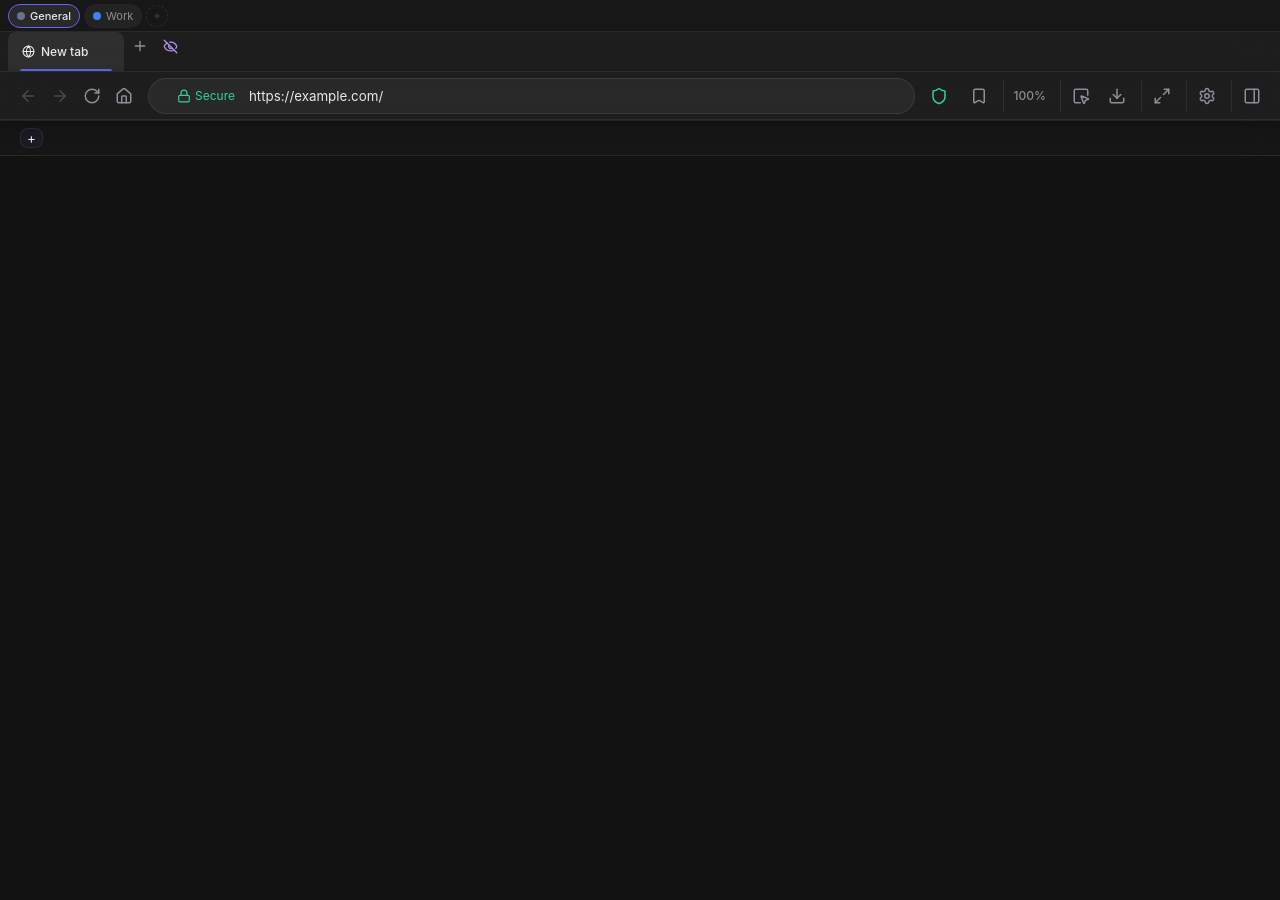
it: App › opens the Settings modal from the toolbar gear button
The image size is (1280, 900).
Click the button named "open settings" at (1207, 96), box [1191,80,1223,112]
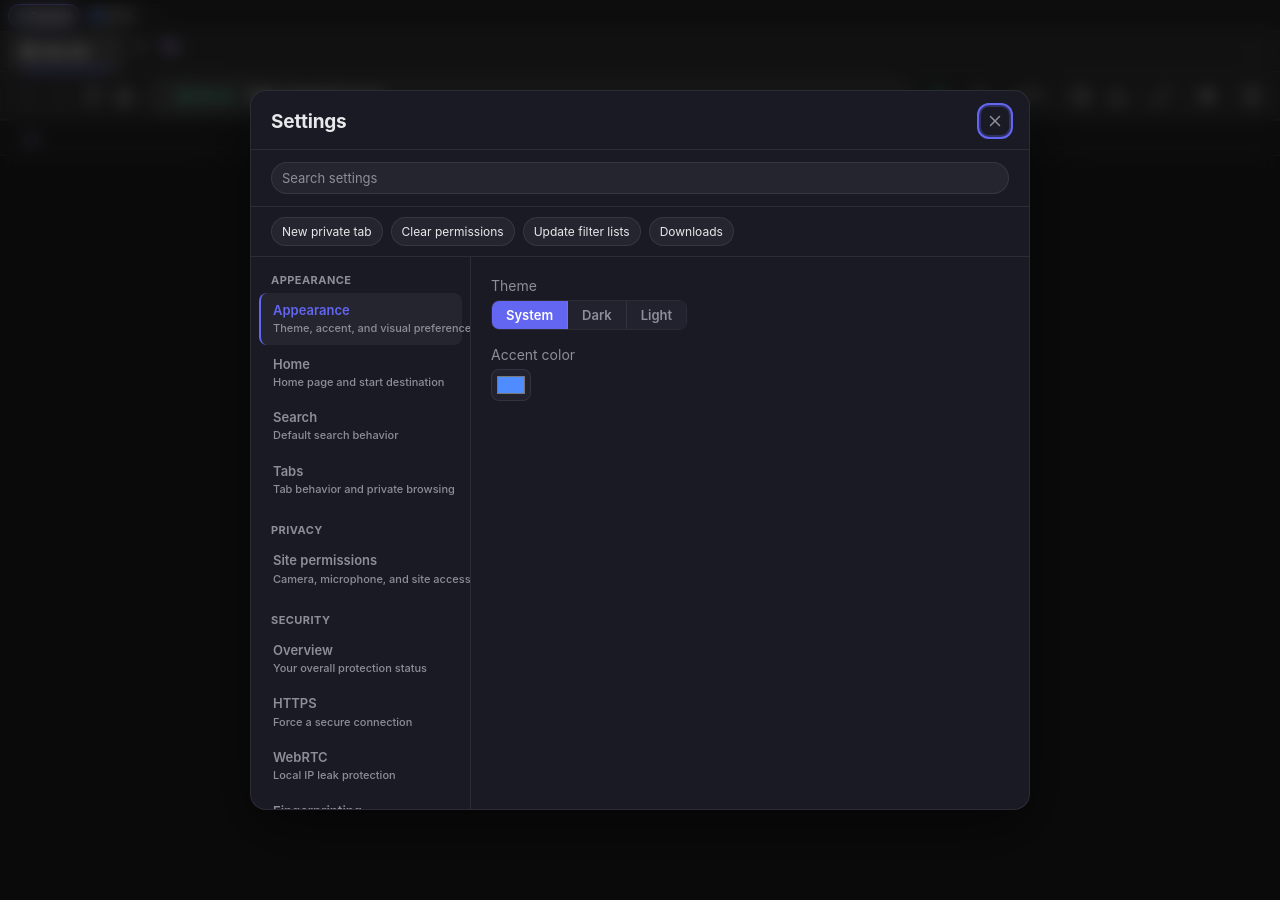
Expected: the dialog "Settings" is shown
